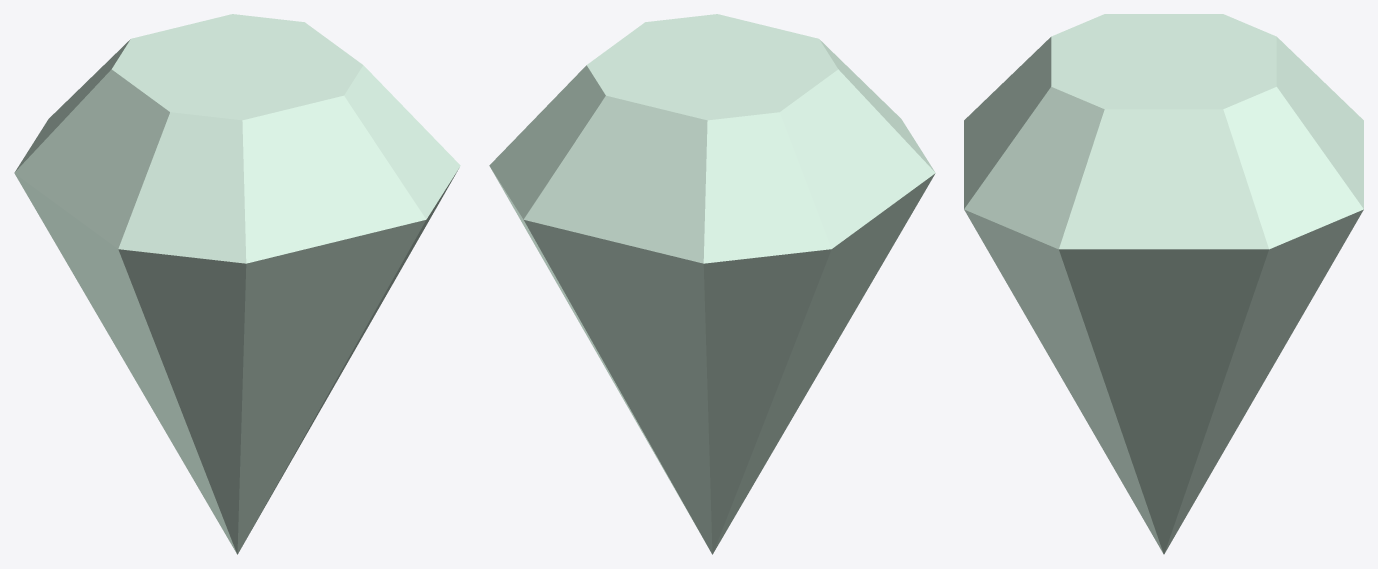
Rendered from Jem_44.fbx.
3 renders of one model, left to right at view 1: azimuth 30°, elevation 25°; view 2: azimuth 150°, elevation 25°; view 3: azimuth 270°, elevation 25°, orthographic.
Parts seen in each view (by area): view 1: Jem_44; view 2: Jem_44; view 3: Jem_44.
Boxes of the visible parts, x1,y1,x2,y2 form: Jem_44: (14, 14, 460, 554); Jem_44: (489, 14, 935, 554); Jem_44: (964, 14, 1363, 554).
Bounding box in the file's own units: 39.84 × 54.22 × 39.84.
